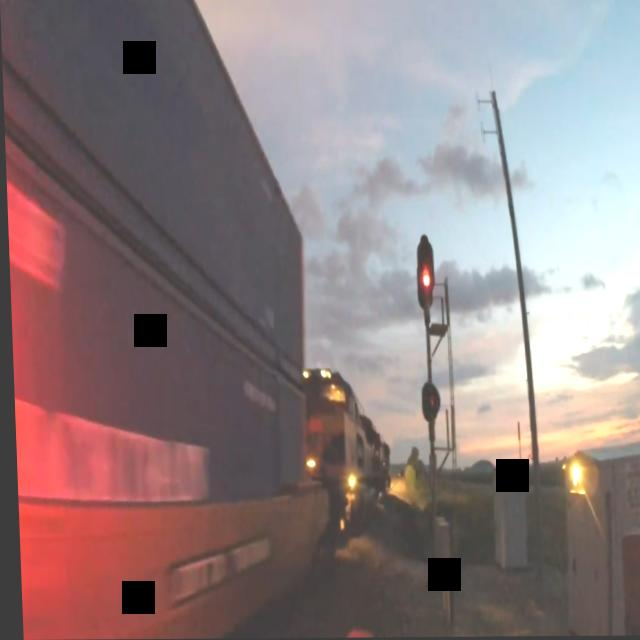container: (3, 95, 308, 507), (0, 0, 307, 394)
flatcar: (14, 466, 335, 640)
locomotive: (302, 358, 396, 544)
